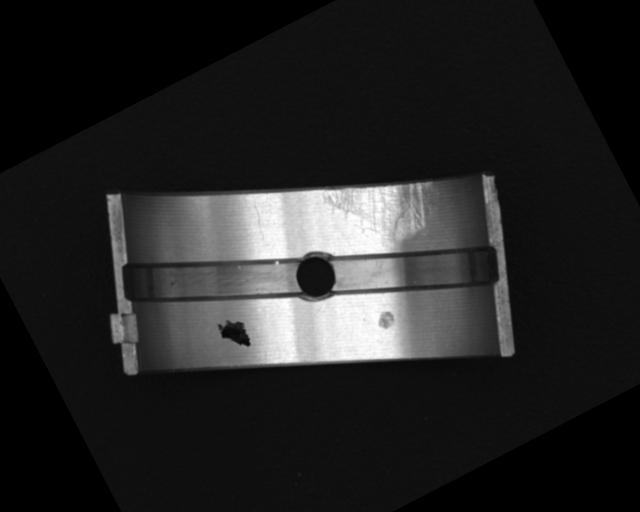blot: (213, 310, 255, 355)
bruise: (373, 305, 399, 332)
gap: (115, 195, 315, 364), (321, 188, 511, 349)
hole: (281, 242, 347, 311)
nick: (240, 196, 275, 243)
scratch: (318, 142, 452, 266)
